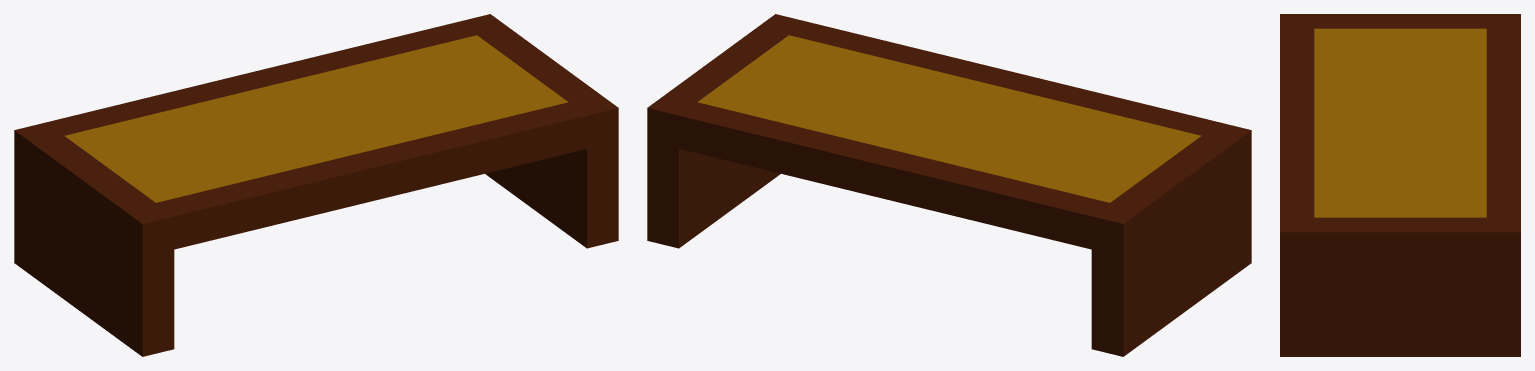
The model's file is Hotel furnitures-2.obj.
3 renders of one model, left to right at view 1: azimuth 30°, elevation 25°; view 2: azimuth 150°, elevation 25°; view 3: azimuth 270°, elevation 25°, orthographic. The views are drawn at different scales.
Parts seen in each view (by area): view 1: Hotel furnitures-2; view 2: Hotel furnitures-2; view 3: Hotel furnitures-2.
Part boxes in pixels (bbox=[...]): Hotel furnitures-2: bbox=[14, 14, 618, 356]; Hotel furnitures-2: bbox=[647, 14, 1251, 356]; Hotel furnitures-2: bbox=[1280, 14, 1520, 356].
Bounding box in the file's own units: 15 × 4 × 7.
1 material, 1 textured.
